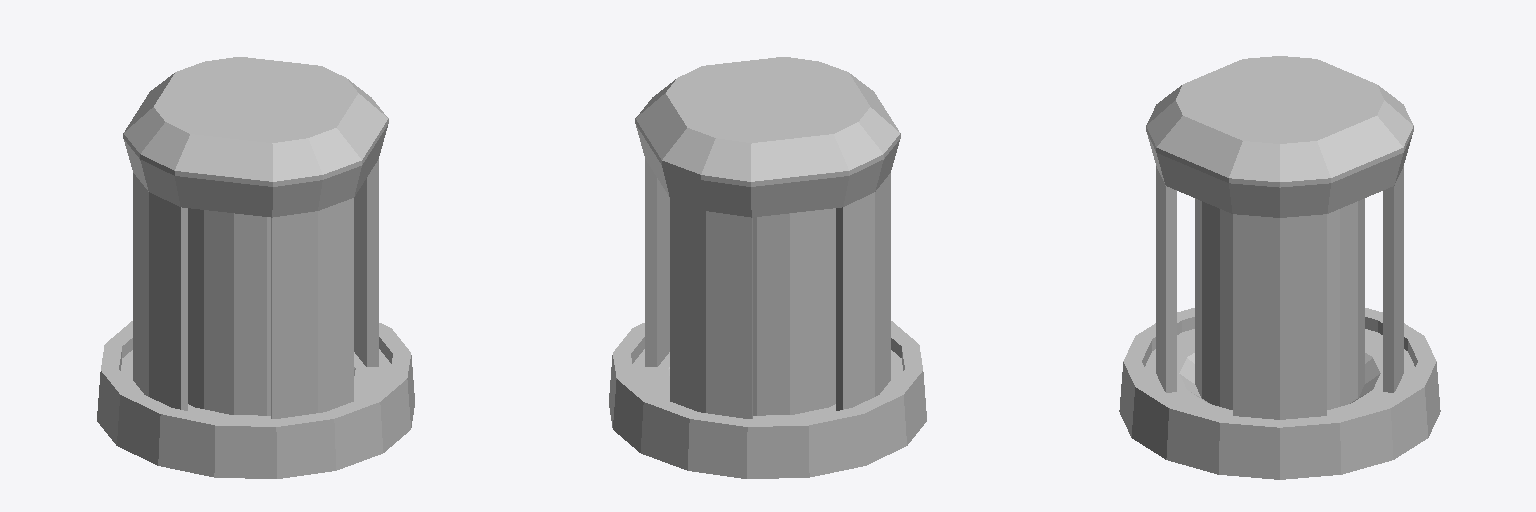
File: Tank_Full.obj
The picture shows the model from 3 angles: view 1: azimuth 30°, elevation 25°; view 2: azimuth 150°, elevation 25°; view 3: azimuth 270°, elevation 25°; orthographic projection.
Parts seen in each view (by area): view 1: Circle; view 2: Circle; view 3: Circle.
Boxes of the visible parts, <box> form: Circle: <box>97,57,414,478</box>; Circle: <box>609,57,926,478</box>; Circle: <box>1119,56,1440,479</box>.
Size of the model in its own units: 1.06 by 1.13 by 1.06.